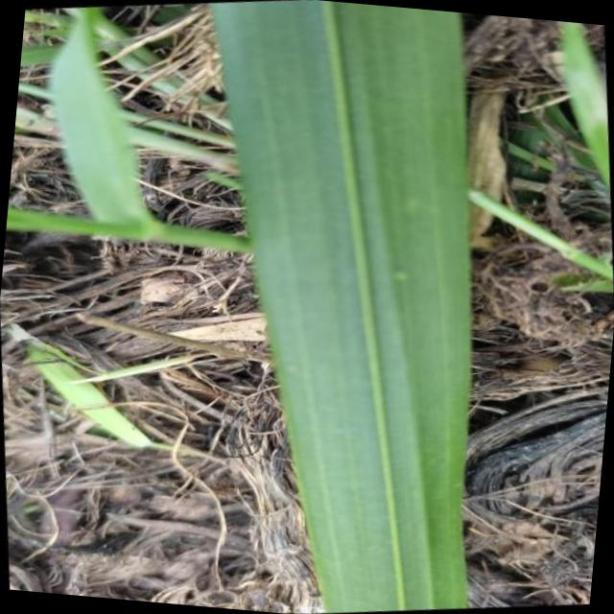Healthy: (214, 0, 472, 614)
